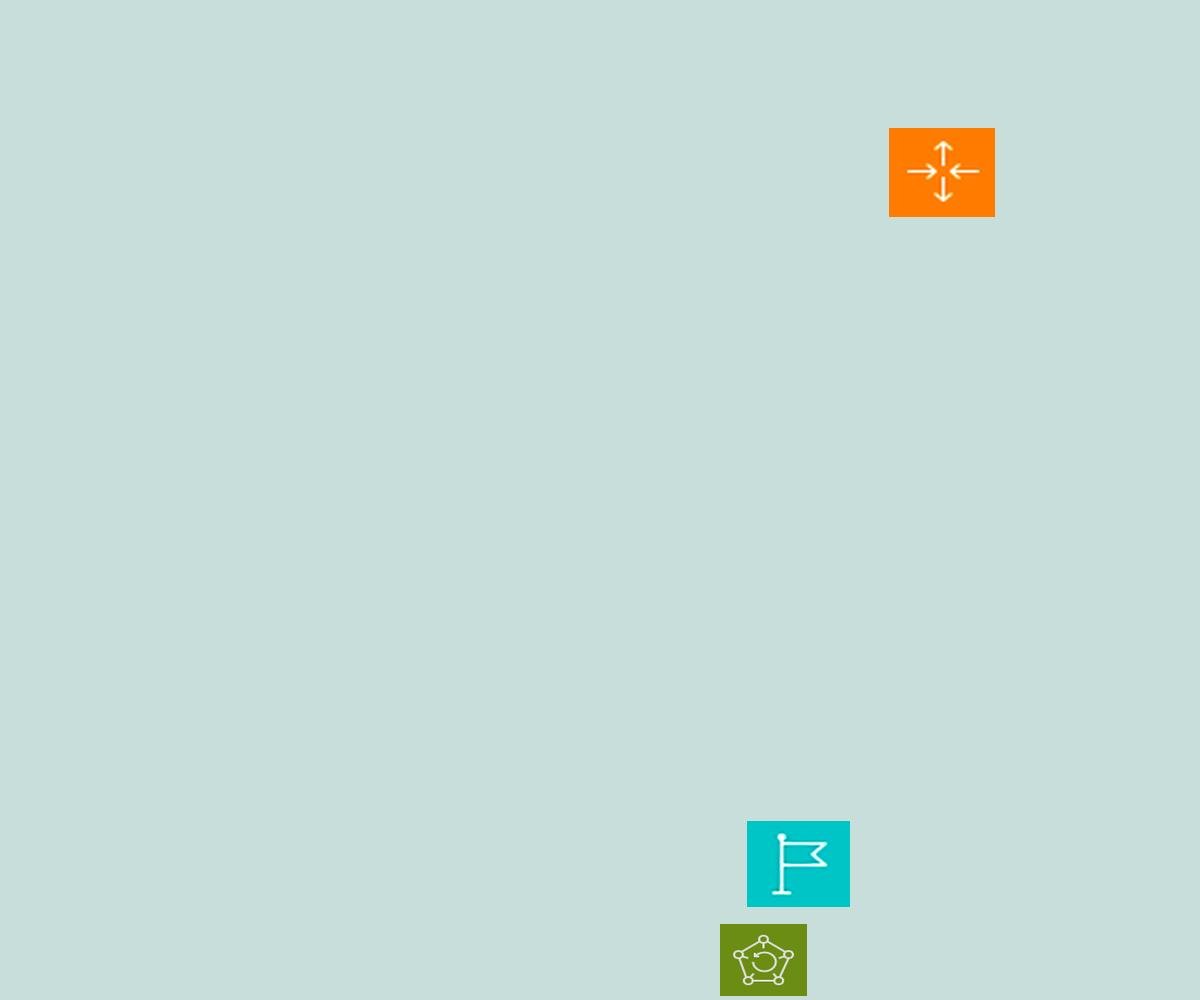AWS-Backup: (720, 924, 807, 996)
AWS-Region: (747, 821, 850, 907)
AWS-Scaling-group: (889, 128, 995, 217)
